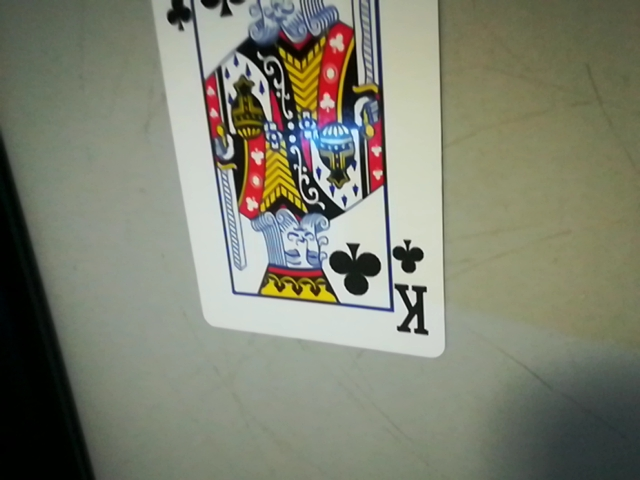mh k: (386, 234, 434, 347)
